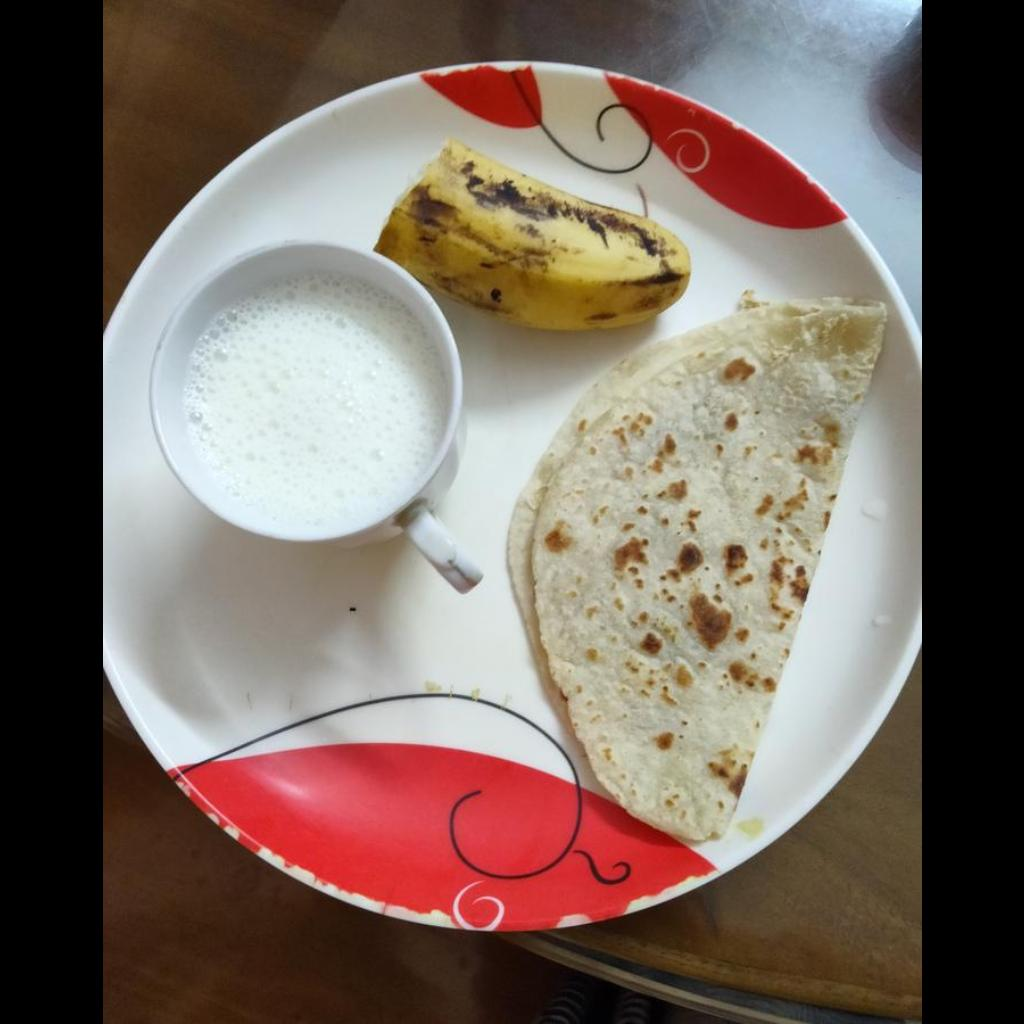banana: (372, 143, 692, 328)
milk: (177, 282, 439, 523)
ruti: (506, 297, 891, 839)
